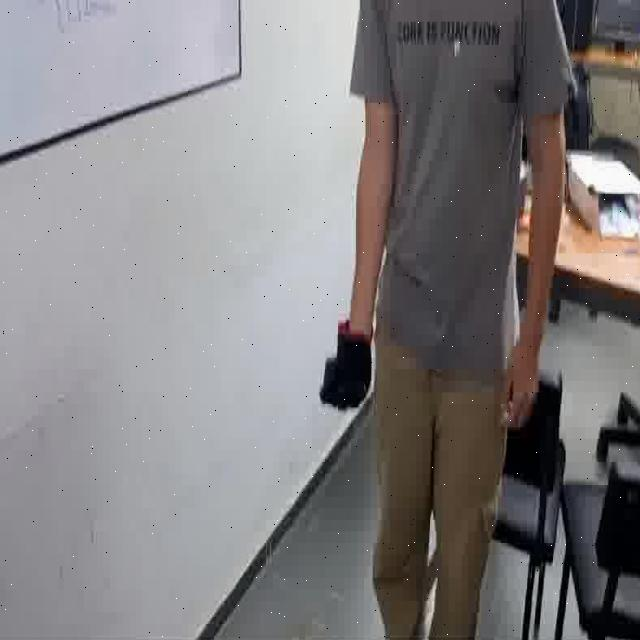Gloves: (318, 318, 374, 408)
